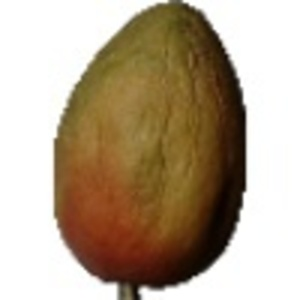mamão: (29, 4, 260, 288)
